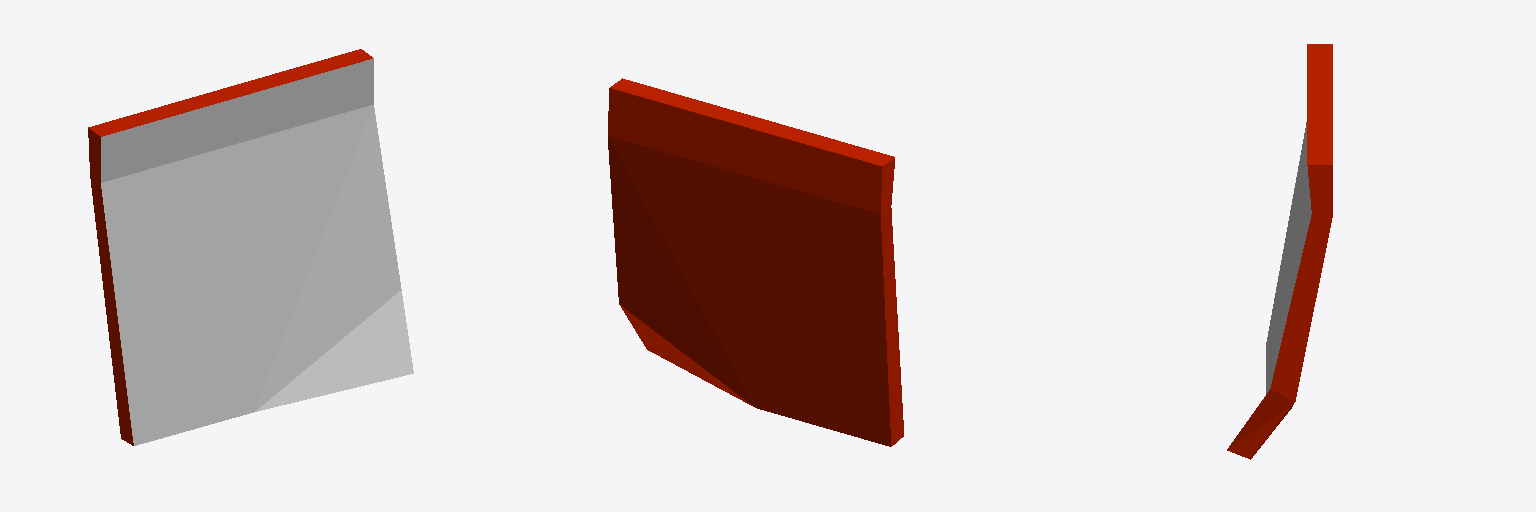
Rendered from post-it_taches.05.obj.
The picture shows the model from 3 angles: view 1: azimuth 30°, elevation 25°; view 2: azimuth 150°, elevation 25°; view 3: azimuth 270°, elevation 25°; orthographic projection.
Parts seen in each view (by area): view 1: post-it_taches.05; view 2: post-it_taches.05; view 3: post-it_taches.05.
Boxes of the visible parts, box(x1,y1,x2,y2) form: post-it_taches.05: box(88, 49, 413, 445); post-it_taches.05: box(608, 78, 903, 446); post-it_taches.05: box(1227, 44, 1332, 459).
Size of the model in its own units: 0.1483 by 0.156 by 0.0485.